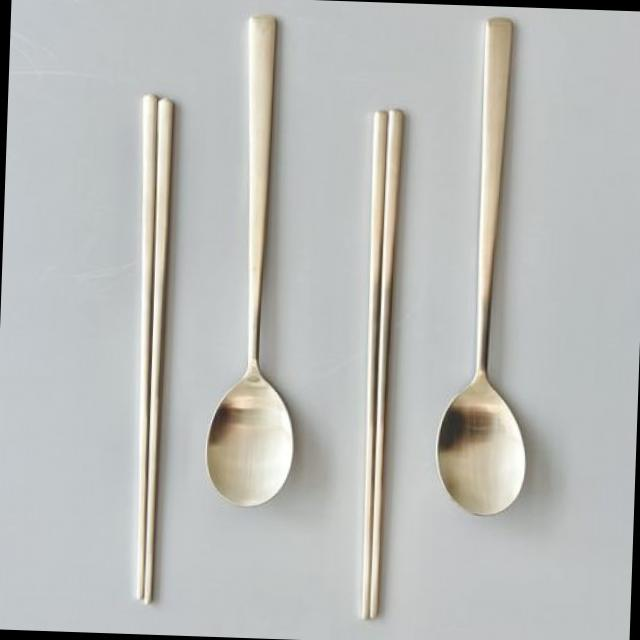spoon: (419, 11, 574, 540), (185, 0, 330, 517)
